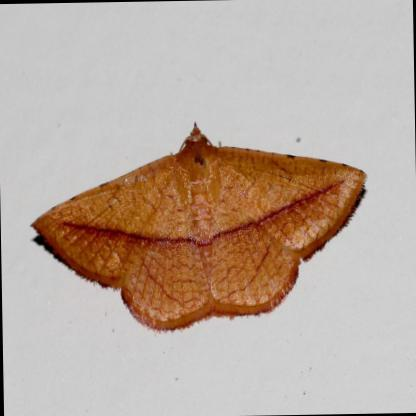Leaf Webber: (30, 120, 366, 337)
